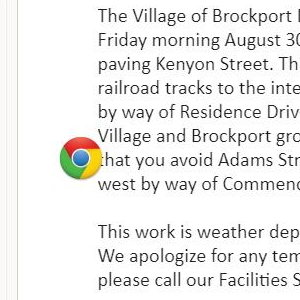chrome: (59, 136, 102, 180)
